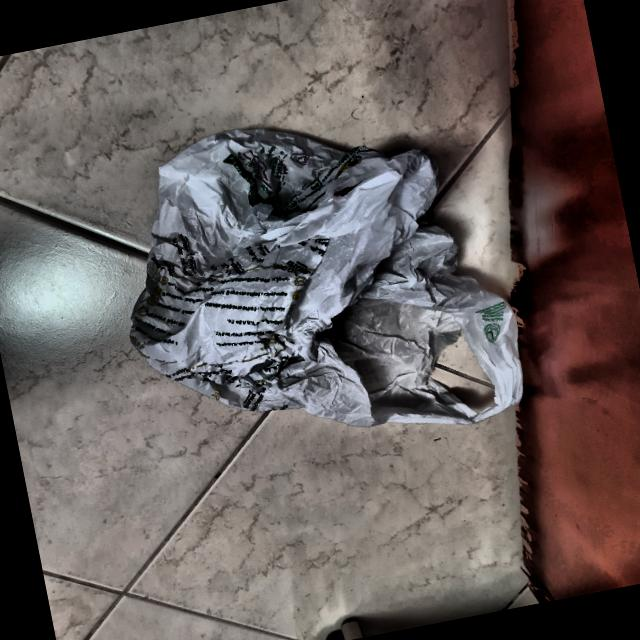plastic bag: (80, 70, 554, 497)
